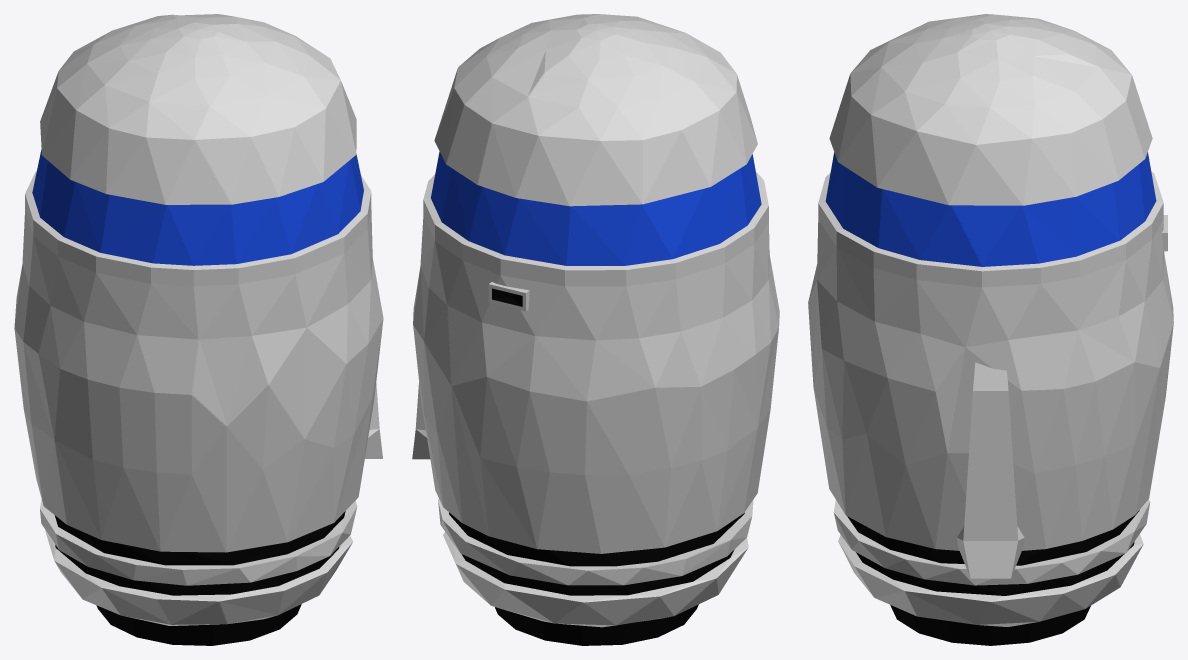
Rendered from rocket.dae.
3 views of the same model, side by side, from view 1: azimuth 30°, elevation 25°; view 2: azimuth 150°, elevation 25°; view 3: azimuth 270°, elevation 25° (orthographic).
Visible parts, largest first — view 1: Cone.003, Cone, Cone.002, Cylinder, Plane.004; view 2: Cone.003, Cone.002, Cone, Cylinder, Cube, Plane.004; view 3: Cone, Cone.002, Cone.003, Plane.004, Cylinder.
Part boxes in pixels (box(x1,y1,x2,y2)): Cone.003: box(14, 14, 356, 625); Cone: box(41, 209, 383, 624); Cone.002: box(173, 14, 371, 284); Cylinder: box(96, 604, 301, 645); Plane.004: box(365, 383, 382, 458); Cone.003: box(438, 26, 779, 627); Cone.002: box(423, 14, 686, 259); Cone: box(413, 216, 752, 605); Cylinder: box(495, 604, 698, 645); Cube: box(488, 282, 529, 311); Plane.004: box(412, 382, 430, 459); Cone: box(808, 220, 1159, 626); Cone.002: box(818, 27, 1151, 287); Cone.003: box(826, 14, 1173, 586); Plane.004: box(957, 362, 1024, 578); Cylinder: box(890, 605, 1090, 645).
Bounding box in the file's own units: 2.1 × 1.99 × 3.44.
